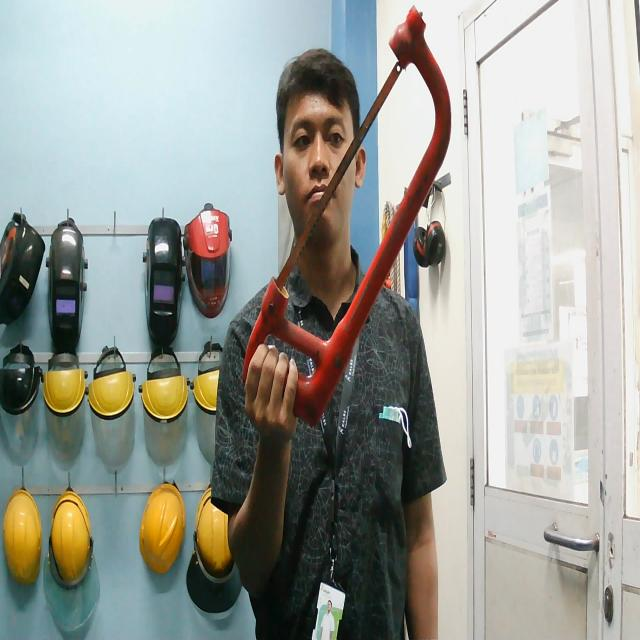gergaji_besi: (211, 0, 522, 442)
